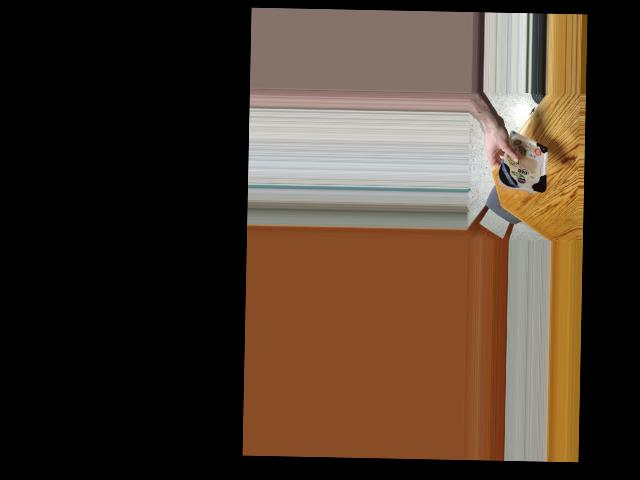cheese: (505, 135, 543, 194)
